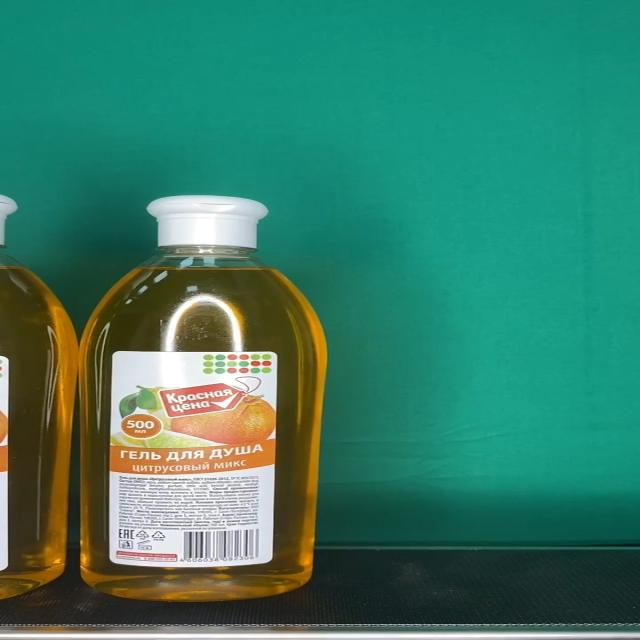Bottle: (79, 195, 331, 600)
Cap: (148, 196, 270, 249)
